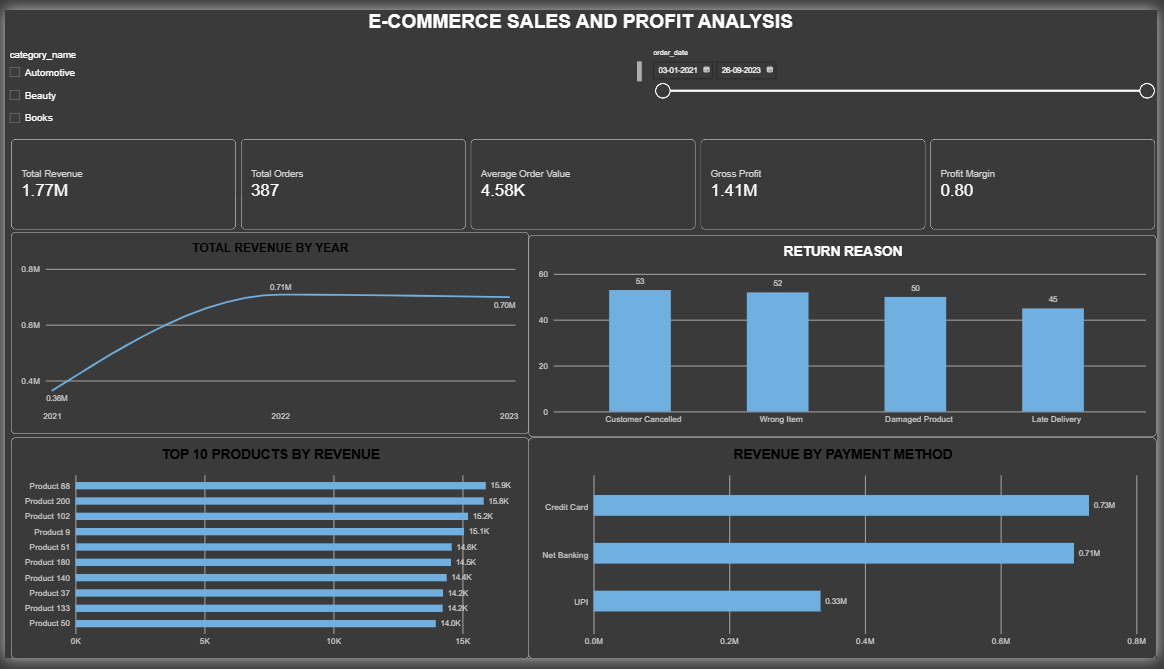

The page's visual inventory and layout, read from the dashboard file:
{"tool":"powerbi","page":{"name":"ecommerce_analytics","canvas":[1920,1080],"ordinal":0},"visuals":[{"type":"cardVisual","fields":{"Data":["ecommerce_analytics order_items.Total Revenue","ecommerce_analytics orders.Total Orders","ecommerce_analytics orders.Average Order Value","ecommerce_analytics orders.Gross Profit","ecommerce_analytics categories.Profit Margin"]},"box":[9.8,214.7,1907.9,151.3],"z":0},{"type":"lineChart","title":"TOTAL REVENUE BY YEAR","fields":{"Category":["ecommerce_analytics orders.order_date.Variation.Date Hierarchy.Year","ecommerce_analytics orders.order_date.Variation.Date Hierarchy.Quarter","ecommerce_analytics orders.order_date.Variation.Date Hierarchy.Month","ecommerce_analytics orders.order_date.Variation.Date Hierarchy.Day"],"Y":["ecommerce_analytics order_items.Total Revenue"]},"box":[9.8,370.9,863.3,336.7],"z":1000},{"type":"clusteredBarChart","title":"TOP 10 PRODUCTS BY REVENUE","fields":{"Category":["ecommerce_analytics products.product_name"],"Y":["ecommerce_analytics order_items.Total Revenue"]},"box":[9.8,712.4,863.7,368.4],"z":2000},{"type":"clusteredBarChart","title":"REVENUE BY PAYMENT METHOD","fields":{"Category":["ecommerce_analytics payments.method"],"Y":["ecommerce_analytics order_items.Total Revenue"]},"box":[873.5,712.4,1046.7,368.4],"z":3000},{"type":"lineStackedColumnComboChart","title":"RETURN REASON","fields":{"Category":["ecommerce_analytics returns.reason"],"Y":["CountNonNull(ecommerce_analytics returns.return_id)"]},"box":[890,370,1027.5,337.5],"z":4000},{"type":"textbox","box":[0,0,1919,85.6],"z":5000},{"type":"slicer","fields":{"Values":["ecommerce_analytics categories.category_name"]},"box":[0,64.5,1061.4,133.2],"z":6000},{"type":"slicer","fields":{"Values":["ecommerce_analytics orders.order_date"]},"box":[1072.1,64.5,846.5,133.2],"z":7000}]}

Visuals, with their boxes in screenshot pixels (x1, y1, x2, y2), scaled from the page's 1920x1080 canvas onto the 1164x669 screenshot:
cardVisual - ecommerce_analytics order_items.Total Revenue x ecommerce_analytics orders.Total Orders: <bbox>6, 133, 1163, 227</bbox>
"TOTAL REVENUE BY YEAR" lineChart: <bbox>6, 230, 529, 438</bbox>
"TOP 10 PRODUCTS BY REVENUE" clusteredBarChart: <bbox>6, 441, 530, 668</bbox>
"REVENUE BY PAYMENT METHOD" clusteredBarChart: <bbox>530, 441, 1163, 668</bbox>
"RETURN REASON" lineStackedColumnComboChart: <bbox>540, 229, 1162, 438</bbox>
textbox: <bbox>0, 0, 1163, 53</bbox>
slicer - ecommerce_analytics categories.category_name: <bbox>0, 40, 643, 122</bbox>
slicer - ecommerce_analytics orders.order_date: <bbox>650, 40, 1163, 122</bbox>
